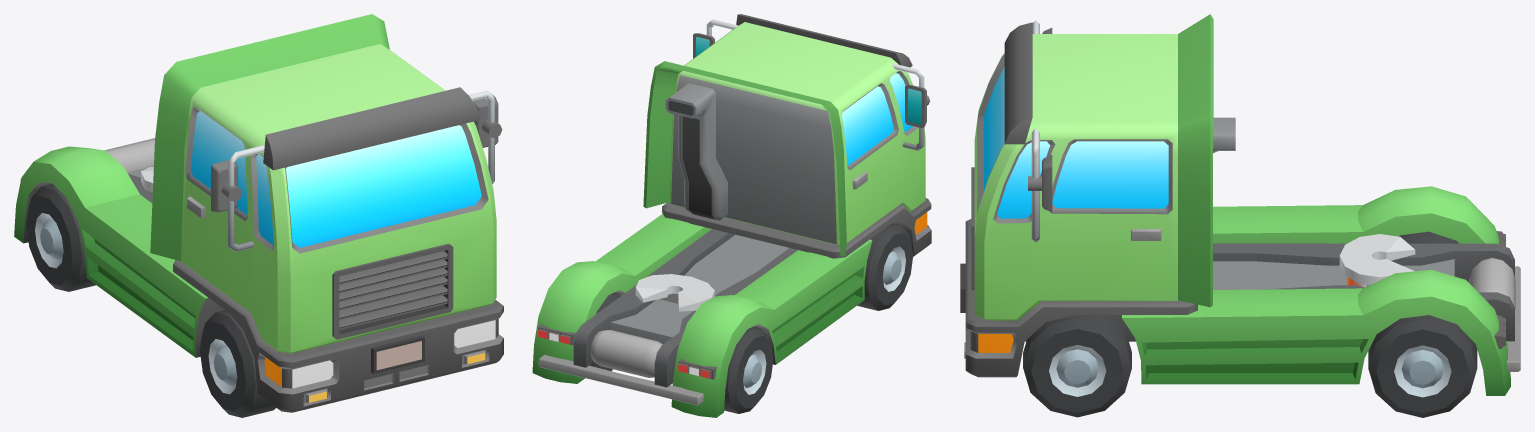
File: Truck_02.glb
3 renders of one model, left to right at view 1: azimuth 30°, elevation 25°; view 2: azimuth 150°, elevation 25°; view 3: azimuth 270°, elevation 25°, orthographic. The views are drawn at different scales.
Visible parts, largest first — view 1: Truck_02, Wheel_255, Wheel_256; view 2: Truck_02, Wheel_255, Wheel_256; view 3: Truck_02, Wheel_257, Wheel_258, Wheel_256.
Boxes of the visible parts, left/top/right/bottom form: Truck_02: left=14, top=14, right=503, bottom=412; Wheel_255: left=199, top=310, right=275, bottom=417; Wheel_256: left=26, top=184, right=95, bottom=291; Truck_02: left=532, top=14, right=931, bottom=417; Wheel_255: left=857, top=223, right=913, bottom=310; Wheel_256: left=724, top=326, right=773, bottom=413; Truck_02: left=960, top=14, right=1520, bottom=395; Wheel_257: left=1023, top=315, right=1131, bottom=417; Wheel_258: left=1368, top=315, right=1477, bottom=417; Wheel_256: left=1399, top=231, right=1458, bottom=243.
Size of the model in its own units: 3.1 by 3.13 by 5.28.
Materials: 2 (2 with a texture image).
